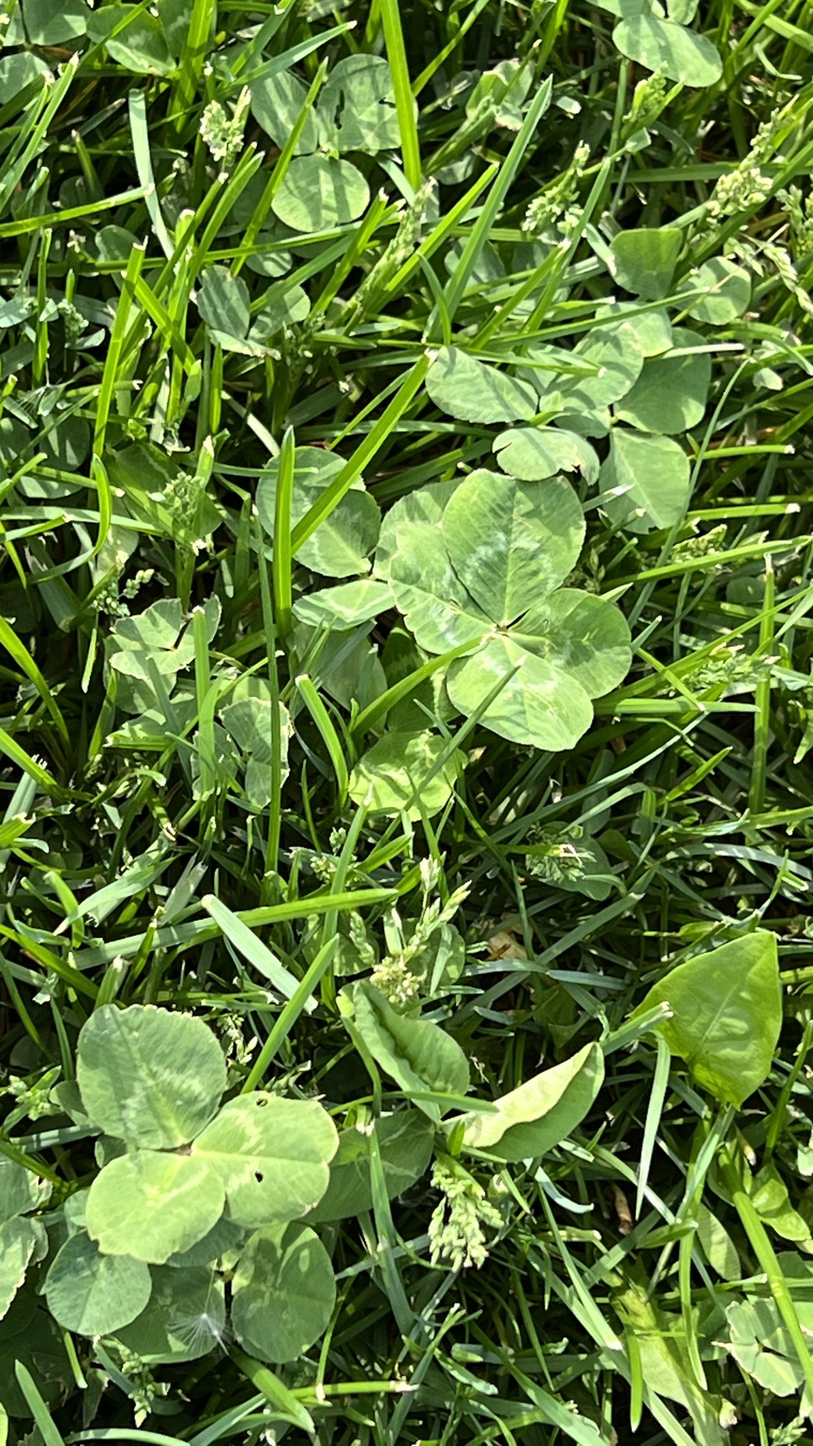4-Leaf-Clovers: (395, 468, 634, 751)
